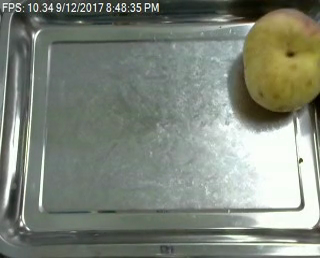Peach: (241, 8, 319, 113)
